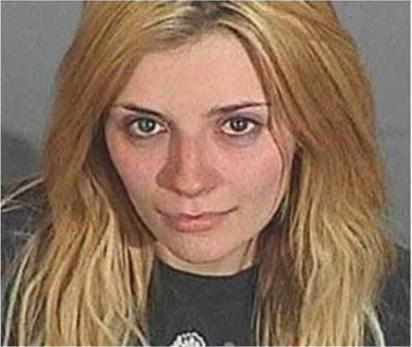Drunk: (110, 59, 282, 261)
